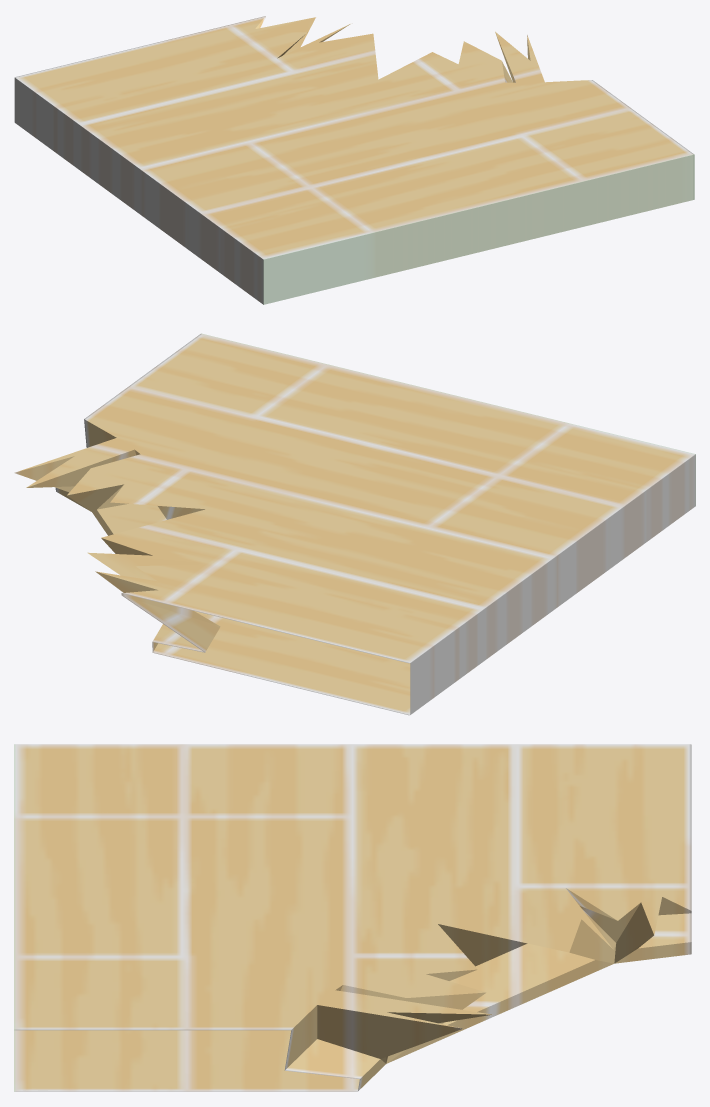
File: Mod_Tile_05_Broken_02.fbx
The picture shows the model from 3 angles, top to bottom: view 1: azimuth 30°, elevation 25°; view 2: azimuth 150°, elevation 25°; view 3: azimuth 270°, elevation 25°; orthographic projection. The views are drawn at different scales.
Visible parts, largest first — view 1: Mod_Tile_05_Broken_02; view 2: Mod_Tile_05_Broken_02; view 3: Mod_Tile_05_Broken_02.
Boxes of the visible parts, <box> form: Mod_Tile_05_Broken_02: <box>14,16,694,304</box>; Mod_Tile_05_Broken_02: <box>14,333,695,715</box>; Mod_Tile_05_Broken_02: <box>14,744,691,1091</box>.
Bounding box in the file's own units: 100 × 10 × 100.
